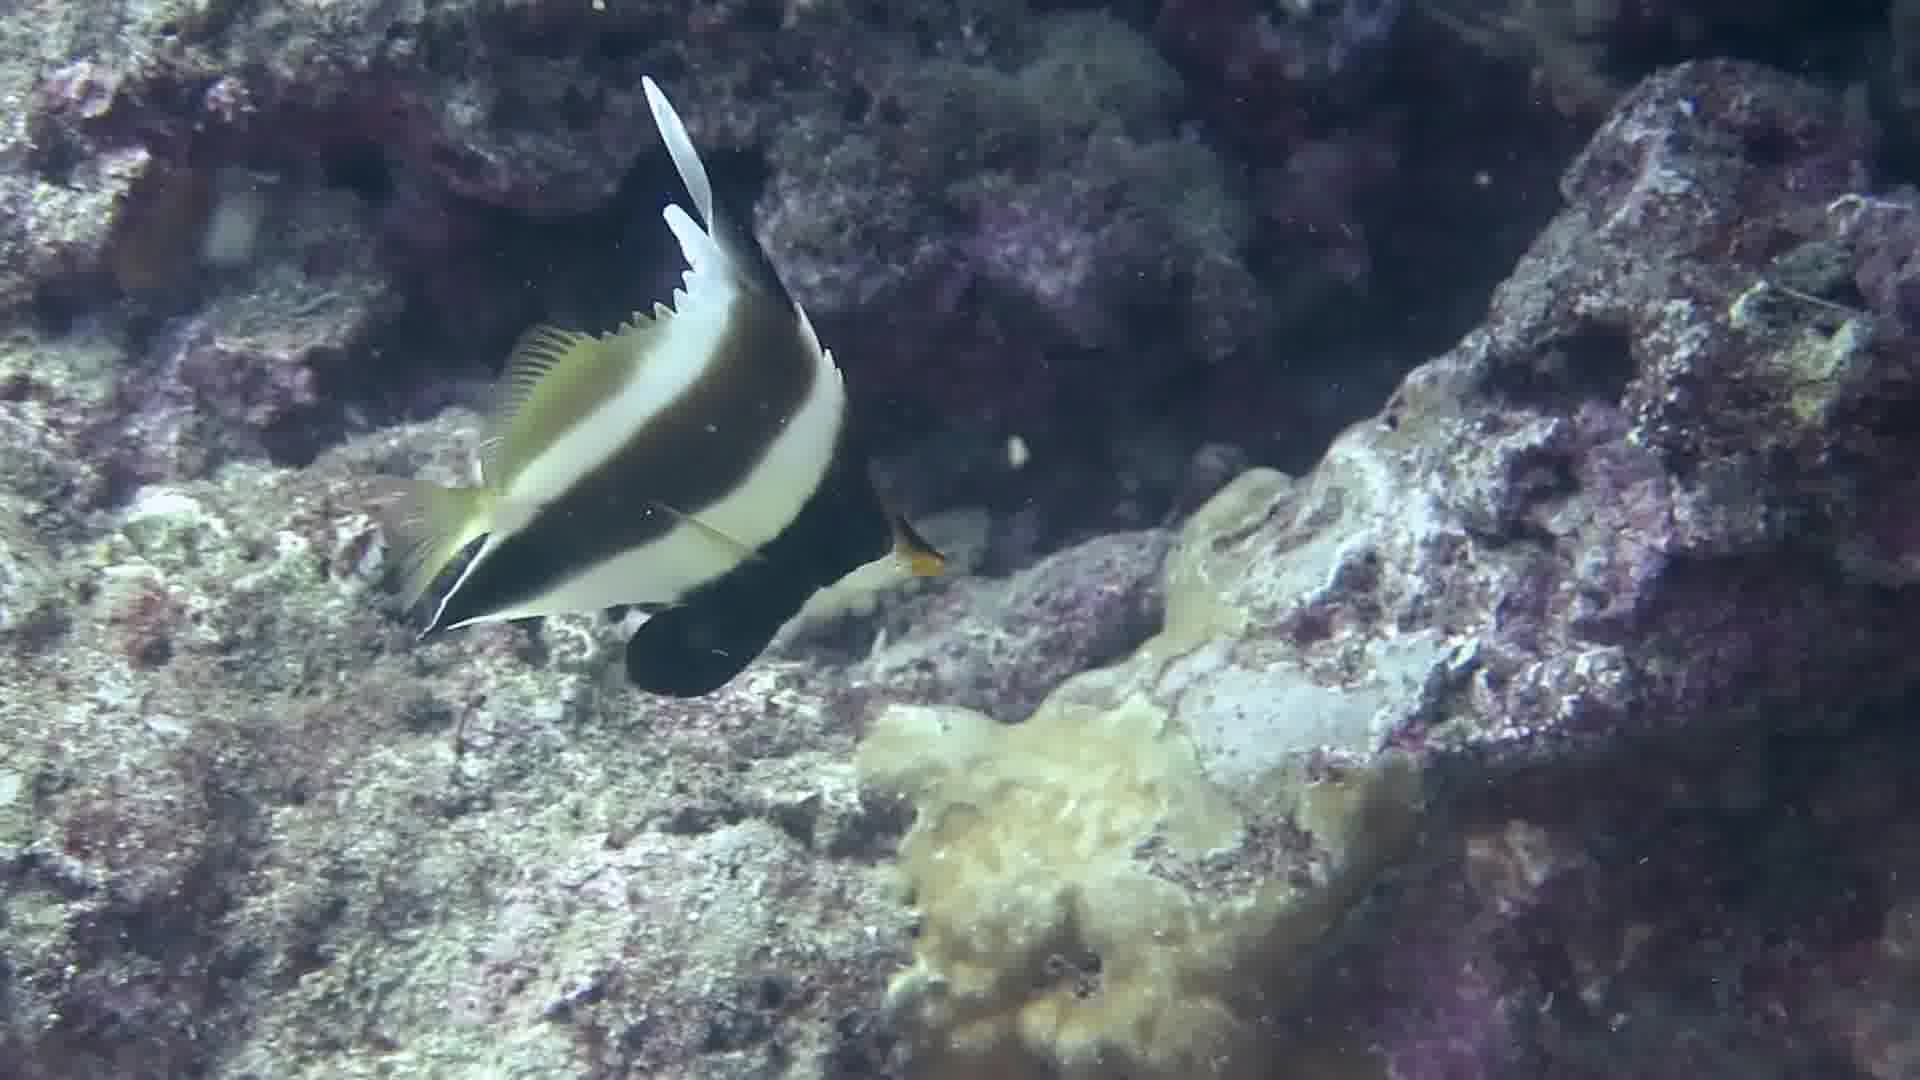Heniochus chrysostomus: (386, 70, 1011, 723)
